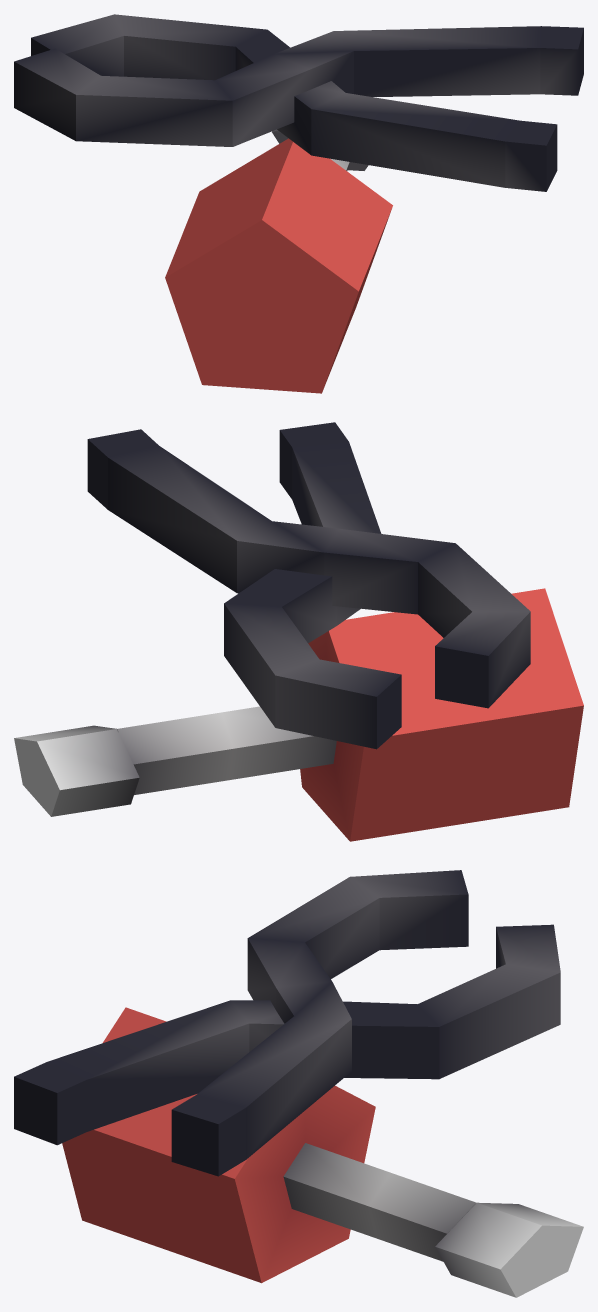
File: girth_tools.glb
3 views of the same model, one above another, from view 1: azimuth 30°, elevation 25°; view 2: azimuth 150°, elevation 25°; view 3: azimuth 270°, elevation 25° (orthographic). The views are drawn at different scales.
Visible parts, largest first — view 1: Cube; view 2: Cube; view 3: Cube.
Part boxes in pixels (x1,y1,x2,y2): Cube: (14, 14, 583, 393); Cube: (14, 422, 583, 841); Cube: (14, 870, 583, 1297).
Bounding box in the file's own units: 2.19 × 1.1 × 2.07.
